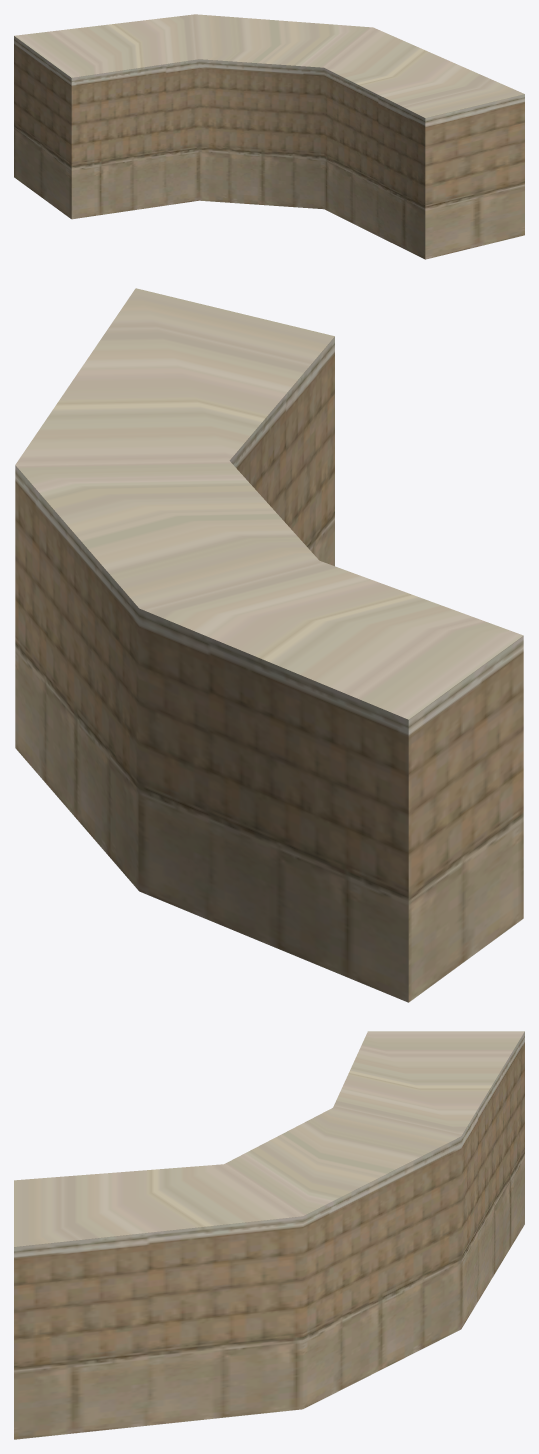
The model's file is thm_nboo_imprv_short_curved_wall_small_s01_l3.fbx.
3 views of the same model, one above another, from view 1: azimuth 30°, elevation 25°; view 2: azimuth 150°, elevation 25°; view 3: azimuth 270°, elevation 25° (orthographic). The views are drawn at different scales.
Parts seen in each view (by area): view 1: mesh_node; view 2: mesh_node; view 3: mesh_node.
Boxes of the visible parts, x1,y1,x2,y2 form: mesh_node: (14,14,524,259); mesh_node: (15,288,523,1002); mesh_node: (14,1031,524,1439).
Size of the model in its own units: 4.72 by 1.97 by 4.73.
1 material, 1 textured.
